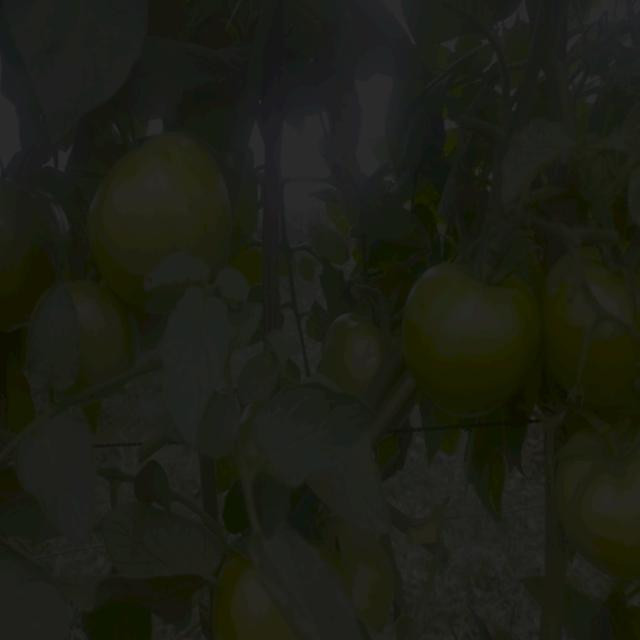tomato: (91, 128, 236, 304), (408, 259, 537, 421), (537, 257, 632, 406), (551, 425, 640, 568), (333, 527, 419, 636), (1, 184, 63, 320), (196, 561, 284, 640), (78, 275, 133, 383), (325, 314, 378, 395)
